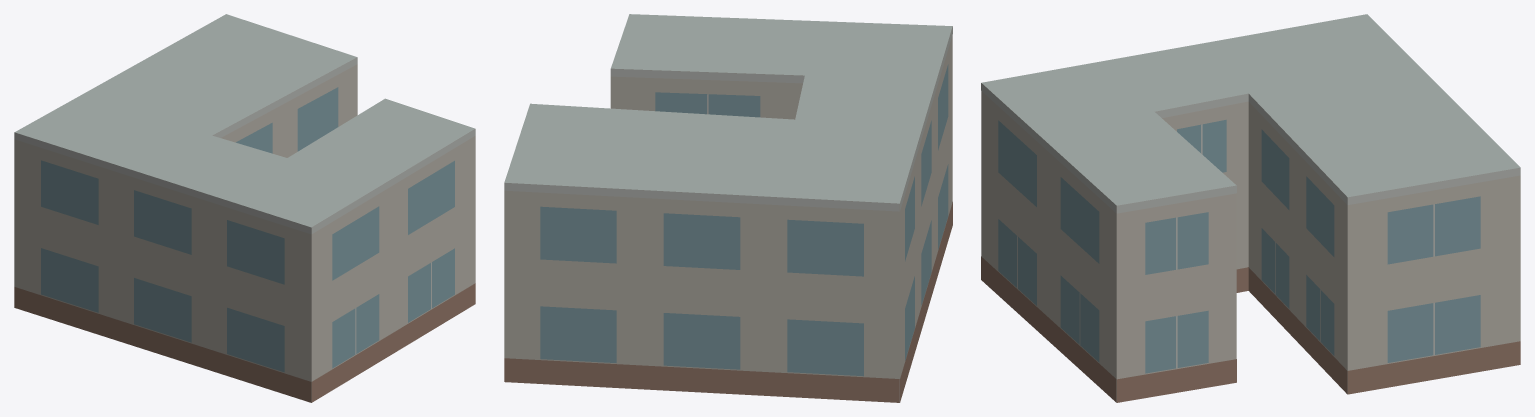
Rendered from survey-upis-32764289.glb.
The picture shows the model from 3 angles, left to right: view 1: azimuth 30°, elevation 25°; view 2: azimuth 150°, elevation 25°; view 3: azimuth 270°, elevation 25°; orthographic projection. The views are drawn at different scales.
Parts seen in each view (by area): view 1: survey-upis-32764289.tmp; view 2: survey-upis-32764289.tmp; view 3: survey-upis-32764289.tmp.
Boxes of the visible parts, x1,y1,x2,y2 form: survey-upis-32764289.tmp: (14,14,475,402); survey-upis-32764289.tmp: (504,14,952,402); survey-upis-32764289.tmp: (981,14,1520,402).
Bounding box in the file's own units: 12.73 × 6.1 × 15.14.
